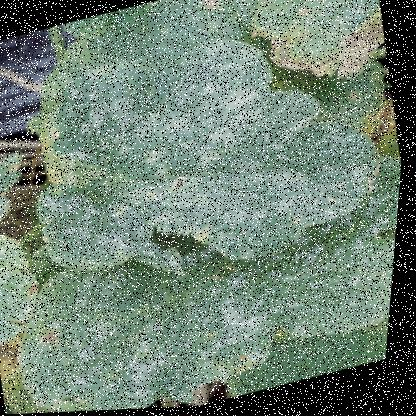PowderyMildew: (57, 259, 240, 405), (197, 214, 387, 348), (119, 59, 280, 208), (74, 51, 245, 169), (188, 125, 350, 246)
